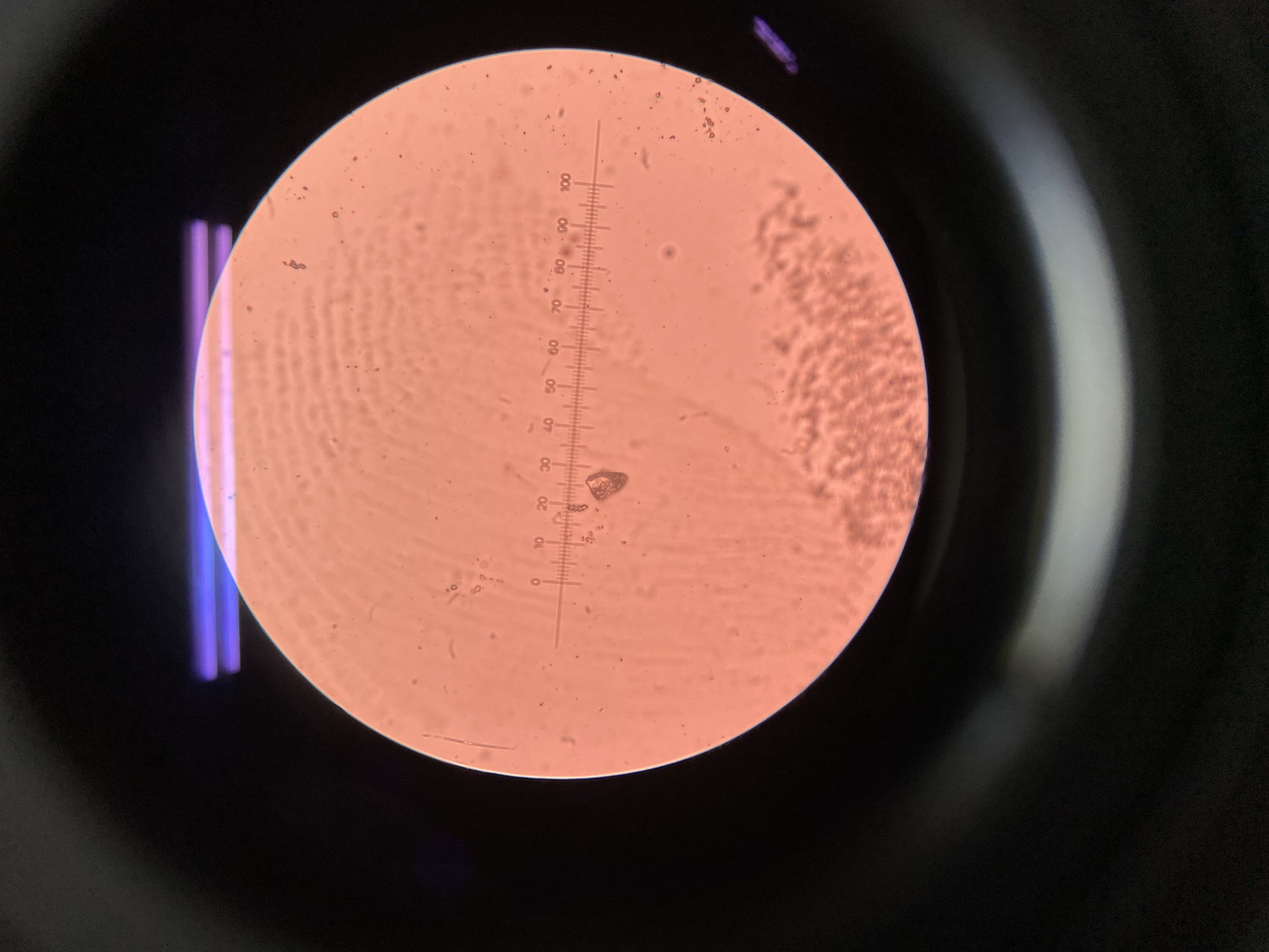not_microplastic: (756, 185, 926, 542), (584, 473, 628, 499), (283, 258, 308, 274), (566, 501, 592, 516), (660, 245, 677, 265), (470, 584, 483, 597), (447, 585, 462, 592)
